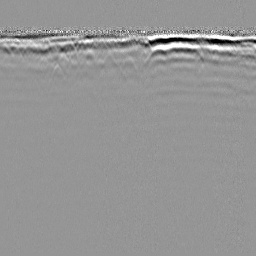cavity: (119, 54, 138, 73)
